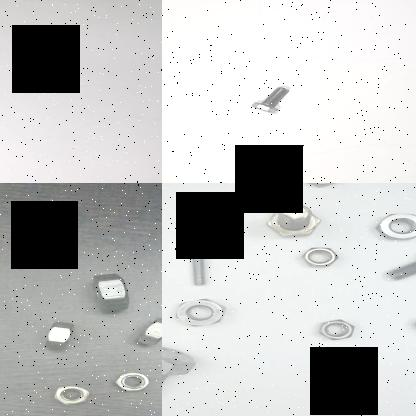Bolts: (263, 200, 334, 241), (162, 339, 202, 408), (182, 238, 220, 288), (244, 84, 300, 116), (382, 247, 416, 285)
NUTS: (173, 292, 232, 330), (86, 270, 136, 314), (376, 206, 416, 244), (308, 316, 360, 344), (301, 242, 342, 274), (110, 366, 155, 394), (41, 319, 78, 351), (50, 382, 92, 404), (135, 315, 162, 347), (299, 183, 345, 190)
